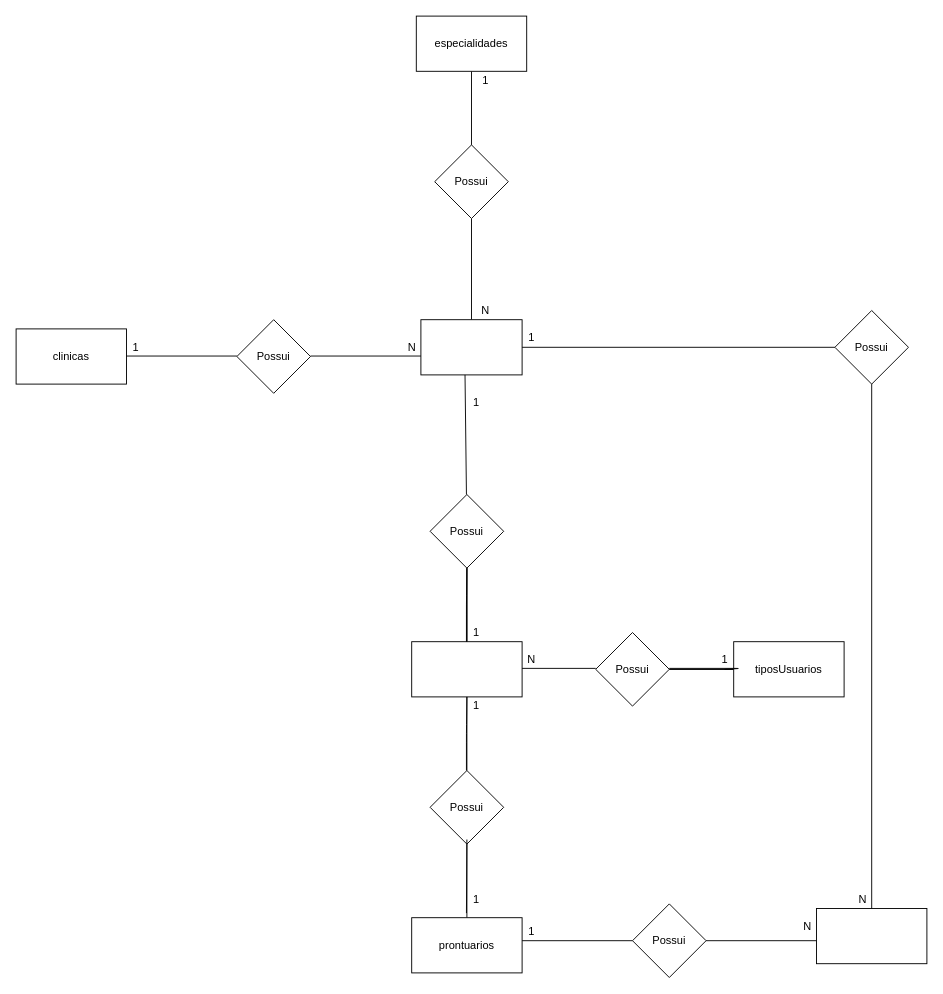
The diagram is 943 pixels wide and 994 high, and some of its shapes have lost their labels. The centre of each missing label's shape, as x and y in pixels:
consultas: [871,936]
medicos: [471,347]
usuarios: [466,669]
